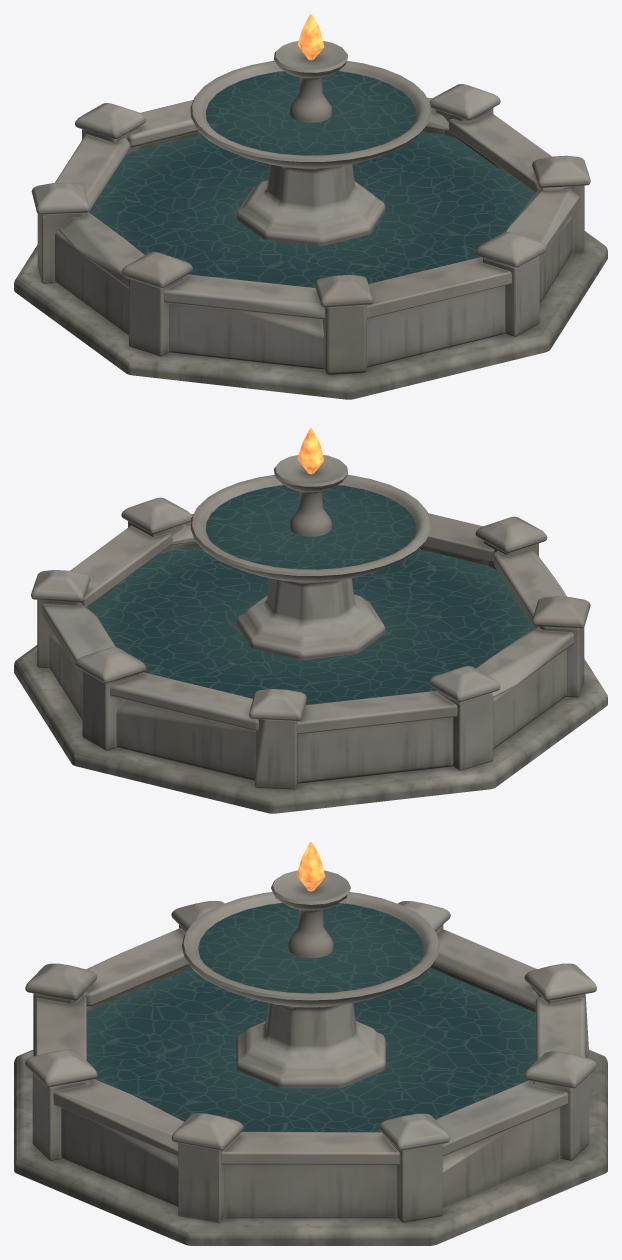
Rendered from Fountain.gltf.
3 renders of one model, top to bottom at view 1: azimuth 30°, elevation 25°; view 2: azimuth 150°, elevation 25°; view 3: azimuth 270°, elevation 25°, orthographic. The views are drawn at different scales.
Parts seen in each view (by area): view 1: Fountain; view 2: Fountain; view 3: Fountain.
Boxes of the visible parts, x1,y1,x2,y2 form: Fountain: (14,14,607,399); Fountain: (14,428,607,813); Fountain: (14,842,607,1245).
Bounding box in the file's own units: 3.96 × 2.04 × 3.96.
3 materials, 3 textured.
